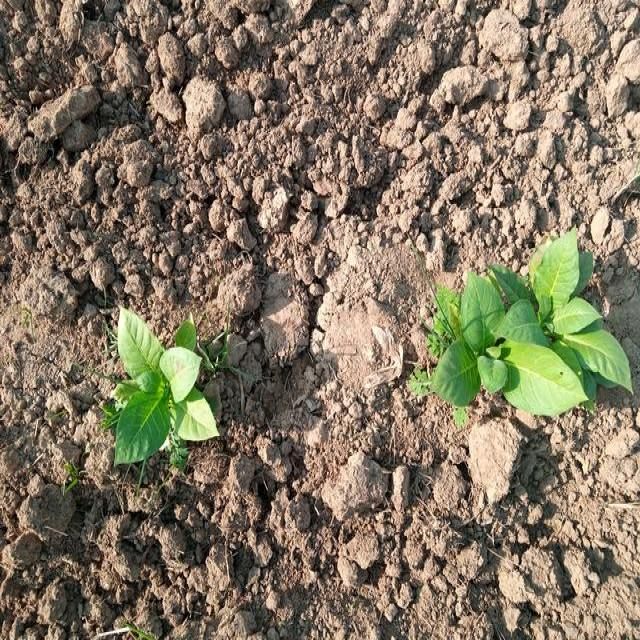crop: (437, 231, 635, 425), (105, 302, 220, 470)
